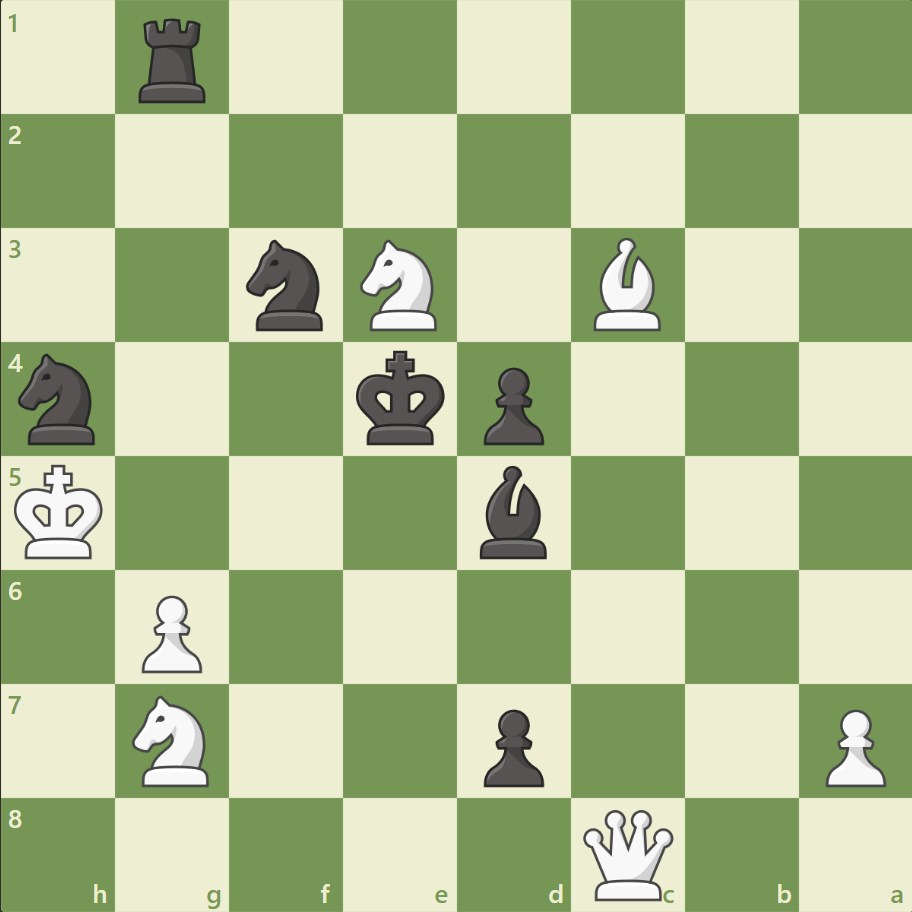B: (585, 233, 669, 336)
K: (11, 458, 111, 566)
N: (124, 688, 222, 791), (351, 234, 449, 337)
P: (133, 586, 208, 677), (815, 700, 889, 791)
Q: (578, 804, 677, 903)
b: (471, 460, 555, 563)
k: (351, 344, 451, 452)
n: (238, 234, 335, 337), (11, 348, 108, 450)
p: (474, 700, 549, 791), (474, 359, 549, 450)
r: (133, 12, 215, 109)
